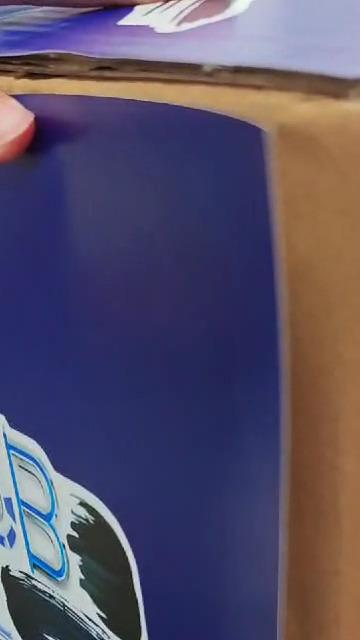B_R1: (0, 413, 277, 640)
